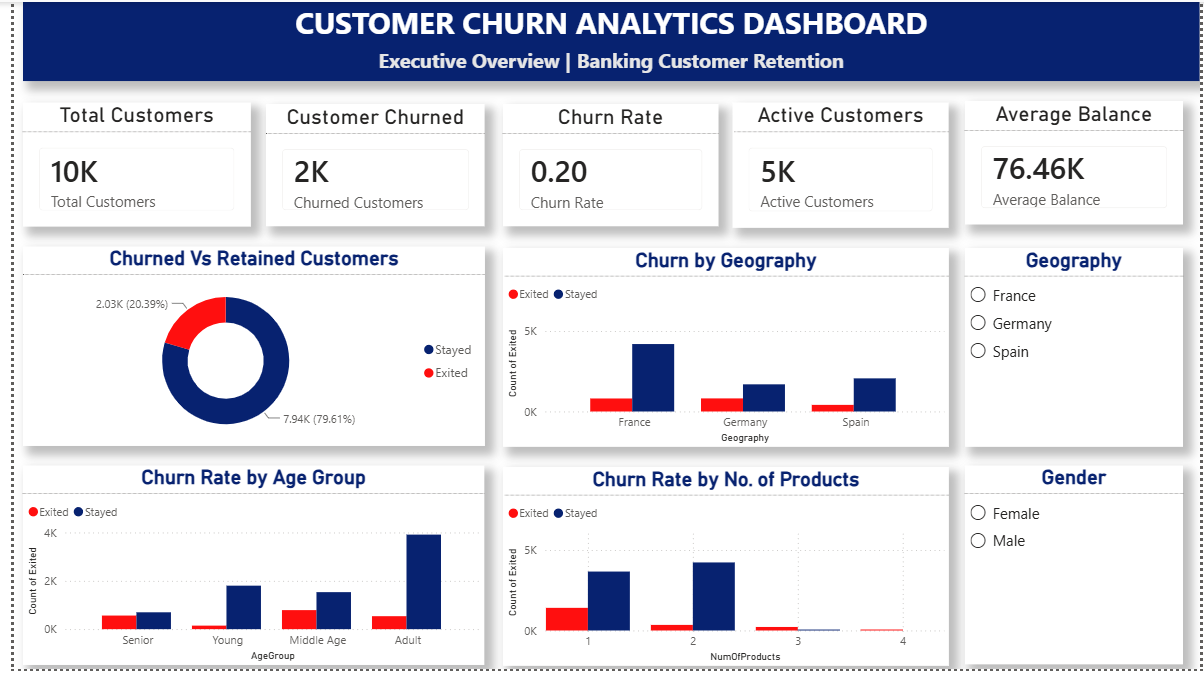

The page's visual inventory and layout, read from the dashboard file:
{"tool":"powerbi","page":{"name":"Page 1","canvas":[1280,720],"ordinal":0},"visuals":[{"type":"textbox","title":"CUSTOMER CHURN ANALYTICS DASHBOARD","box":[9.4,0,1269.9,85],"z":0},{"type":"cardVisual","title":"Total Customers","fields":{"Data":["Churn_Modelling_Cleaned_data.Total Customers"]},"box":[9.4,107.7,245.7,134.2],"z":1000},{"type":"cardVisual","title":"Customer Churned","fields":{"Data":["Churn_Modelling_Cleaned_data.Churned Customers"]},"box":[272.1,109.6,236.2,132.3],"z":2000},{"type":"cardVisual","title":"Churn Rate","fields":{"Data":["Churn_Modelling_Cleaned_data.Churn Rate"]},"box":[527.2,109.6,232.4,132.3],"z":3000},{"type":"cardVisual","title":"Active Customers","fields":{"Data":["Churn_Modelling_Cleaned_data.Active Customers"]},"box":[775.9,109.3,233.3,135.2],"z":4000},{"type":"cardVisual","title":"Average Balance","fields":{"Data":["Churn_Modelling_Cleaned_data.Average Balance"]},"box":[1025.9,107.4,235.2,133.3],"z":5000},{"type":"donutChart","title":"Churned Vs Retained Customers","fields":{"Category":["Churn_Modelling_Cleaned_data.Exited"],"Y":["CountNonNull(Churn_Modelling_Cleaned_data.Exited)"]},"box":[9.4,264.6,498.9,215.4],"z":6000},{"type":"clusteredColumnChart","title":"Churn by Geography","fields":{"Category":["Churn_Modelling_Cleaned_data.Geography"],"Series":["Churn_Modelling_Cleaned_data.Exited"],"Y":["CountNonNull(Churn_Modelling_Cleaned_data.Exited)"]},"box":[527.8,264.8,481.5,214.8],"z":7000},{"type":"clusteredColumnChart","title":"Churn Rate by Age Group","fields":{"Category":["Churn_Modelling_Cleaned_data.AgeGroup"],"Y":["CountNonNull(Churn_Modelling_Cleaned_data.Exited)"],"Series":["Churn_Modelling_Cleaned_data.Exited"]},"box":[9.4,500.8,498,215],"z":8000},{"type":"clusteredColumnChart","title":"Churn Rate by No. of Products","fields":{"Category":["Churn_Modelling_Cleaned_data.NumOfProducts"],"Y":["CountNonNull(Churn_Modelling_Cleaned_data.Exited)"],"Series":["Churn_Modelling_Cleaned_data.Exited"]},"box":[527.8,501.9,481.5,214.8],"z":9000},{"type":"listSlicer","fields":{"Values":["Churn_Modelling_Cleaned_data.Geography"]},"box":[1025.9,264.8,235.2,214.8],"z":10000},{"type":"listSlicer","fields":{"Values":["Churn_Modelling_Cleaned_data.Gender"]},"box":[1025.9,500,235.2,214.8],"z":11000}]}

Visuals, with their boxes in screenshot pixels (x1, y1, x2, y2), scaled from the page's 1280x720 canvas onto the 1204x673 screenshot:
"CUSTOMER CHURN ANALYTICS DASHBOARD" textbox: bbox=(9, 0, 1203, 79)
"Total Customers" cardVisual: bbox=(9, 101, 240, 226)
"Customer Churned" cardVisual: bbox=(256, 102, 478, 226)
"Churn Rate" cardVisual: bbox=(496, 102, 714, 226)
"Active Customers" cardVisual: bbox=(730, 102, 949, 229)
"Average Balance" cardVisual: bbox=(965, 100, 1186, 225)
"Churned Vs Retained Customers" donutChart: bbox=(9, 247, 478, 449)
"Churn by Geography" clusteredColumnChart: bbox=(496, 248, 949, 448)
"Churn Rate by Age Group" clusteredColumnChart: bbox=(9, 468, 477, 669)
"Churn Rate by No. of Products" clusteredColumnChart: bbox=(496, 469, 949, 670)
listSlicer - Churn_Modelling_Cleaned_data.Geography: bbox=(965, 248, 1186, 448)
listSlicer - Churn_Modelling_Cleaned_data.Gender: bbox=(965, 467, 1186, 668)
